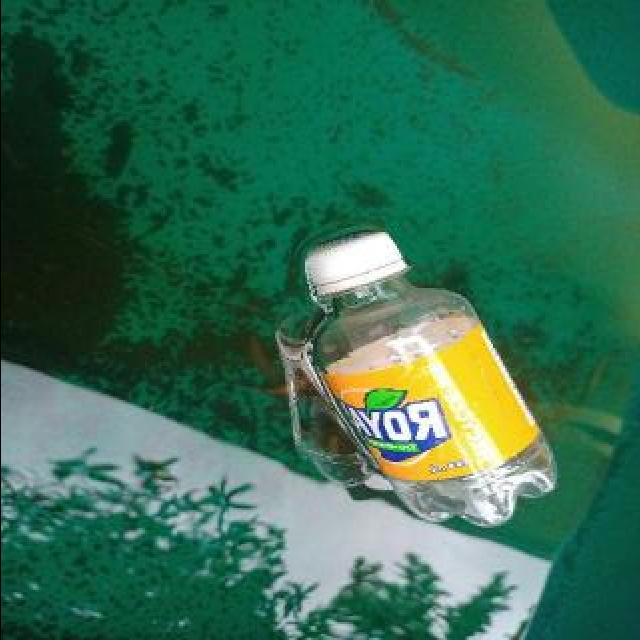Bottle: (280, 208, 566, 540)
